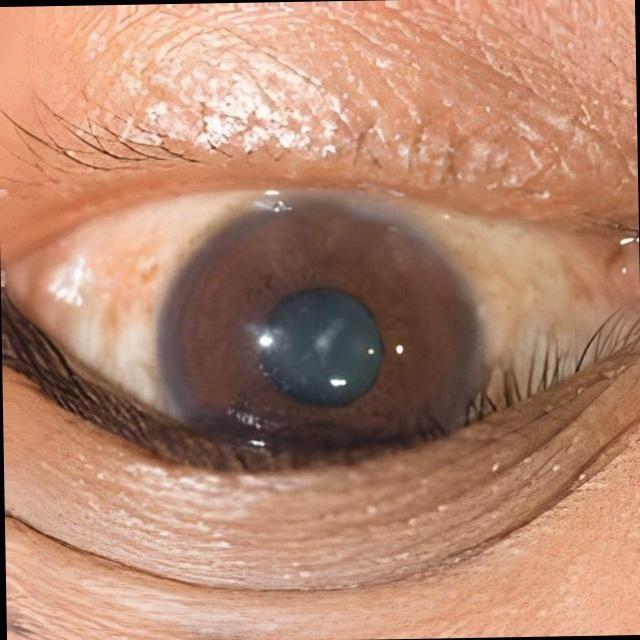Cataract: (156, 184, 443, 438)
